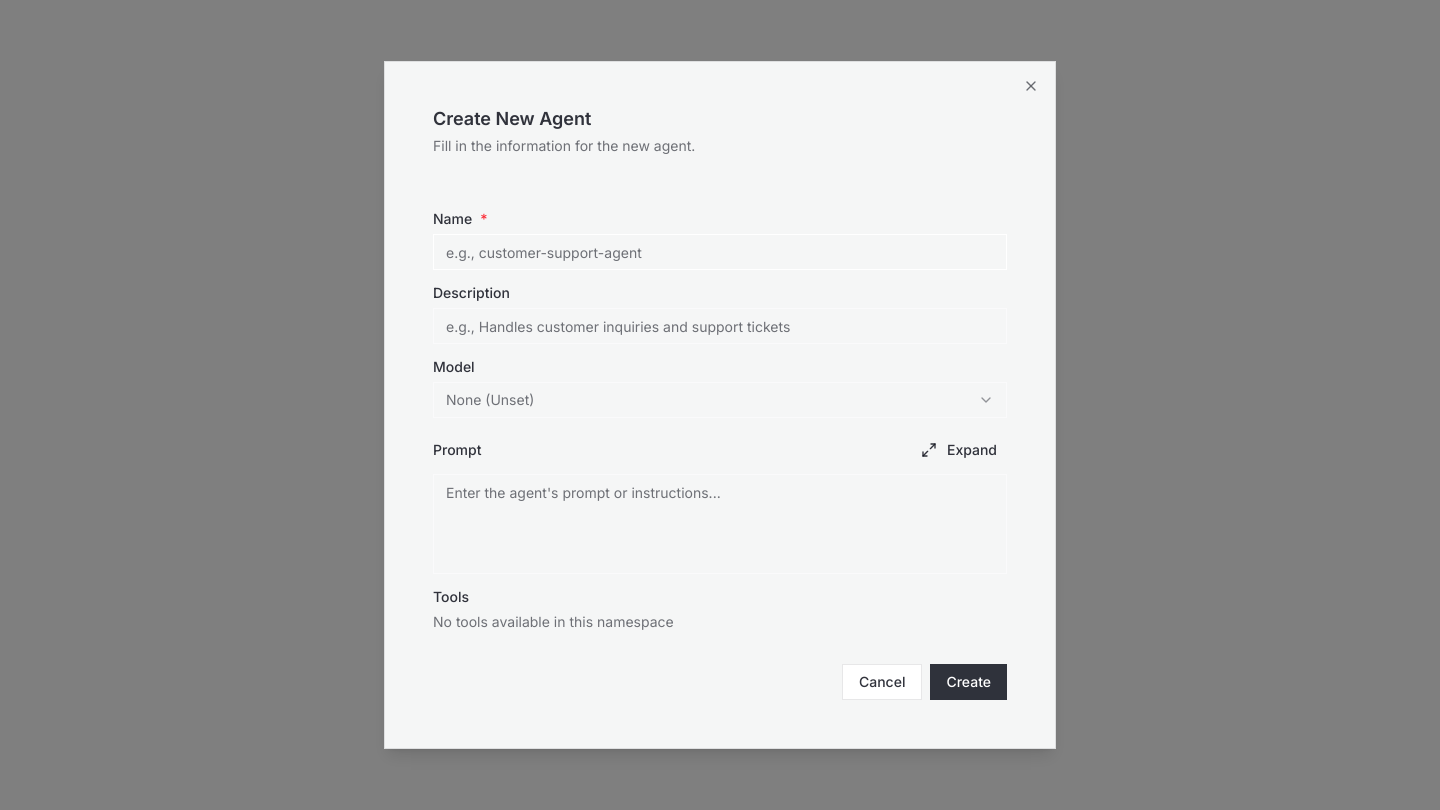
AgentEditor › validation › should show error for invalid kubernetes name
This screenshot has width=1440, height=810.
Type "invalidName" into the field with placeholder "e.g., customer-support-agent" at (720, 252), box x1=433 y1=234 x2=1007 y2=270
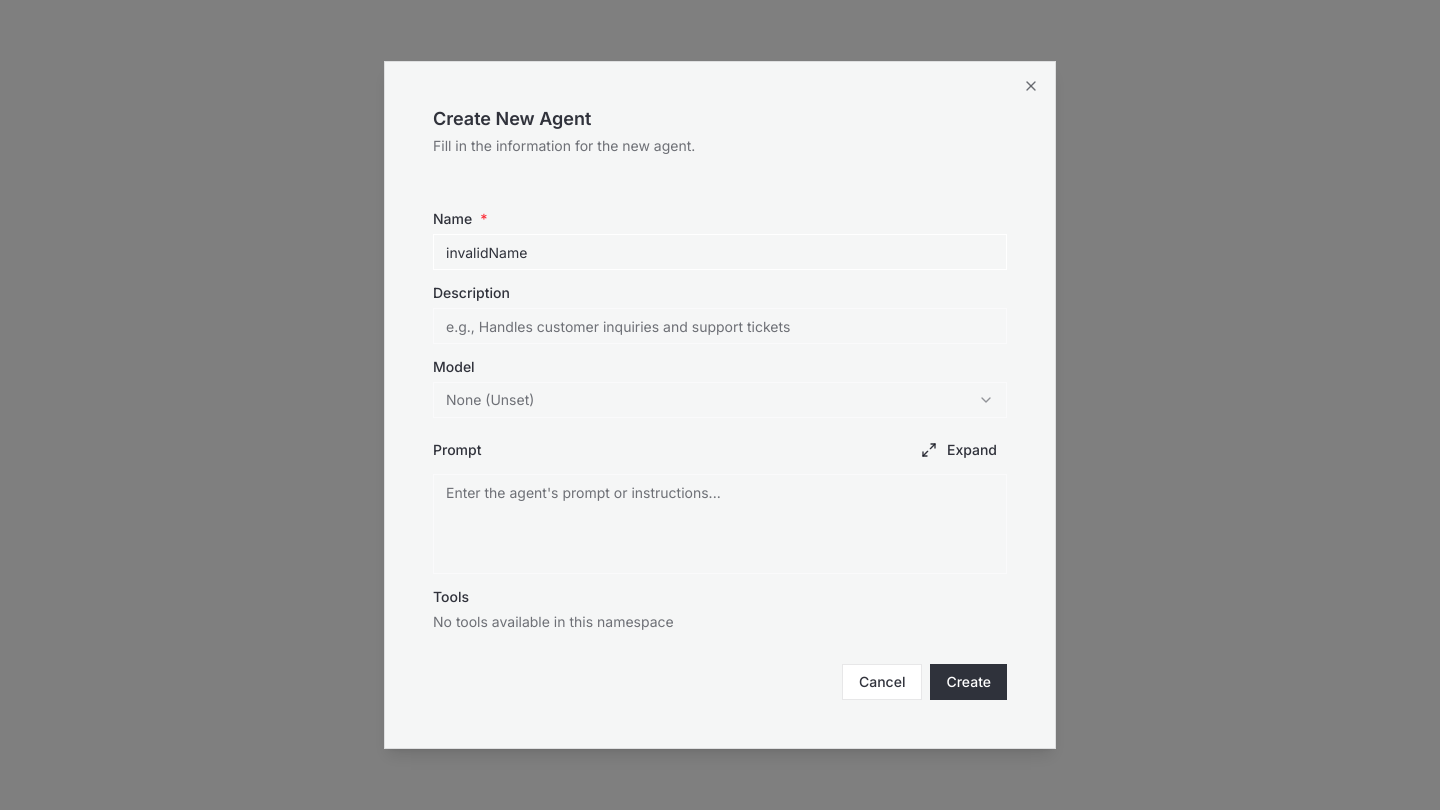
Click the button "Create" at (969, 682), box x1=930 y1=664 x2=1007 y2=700
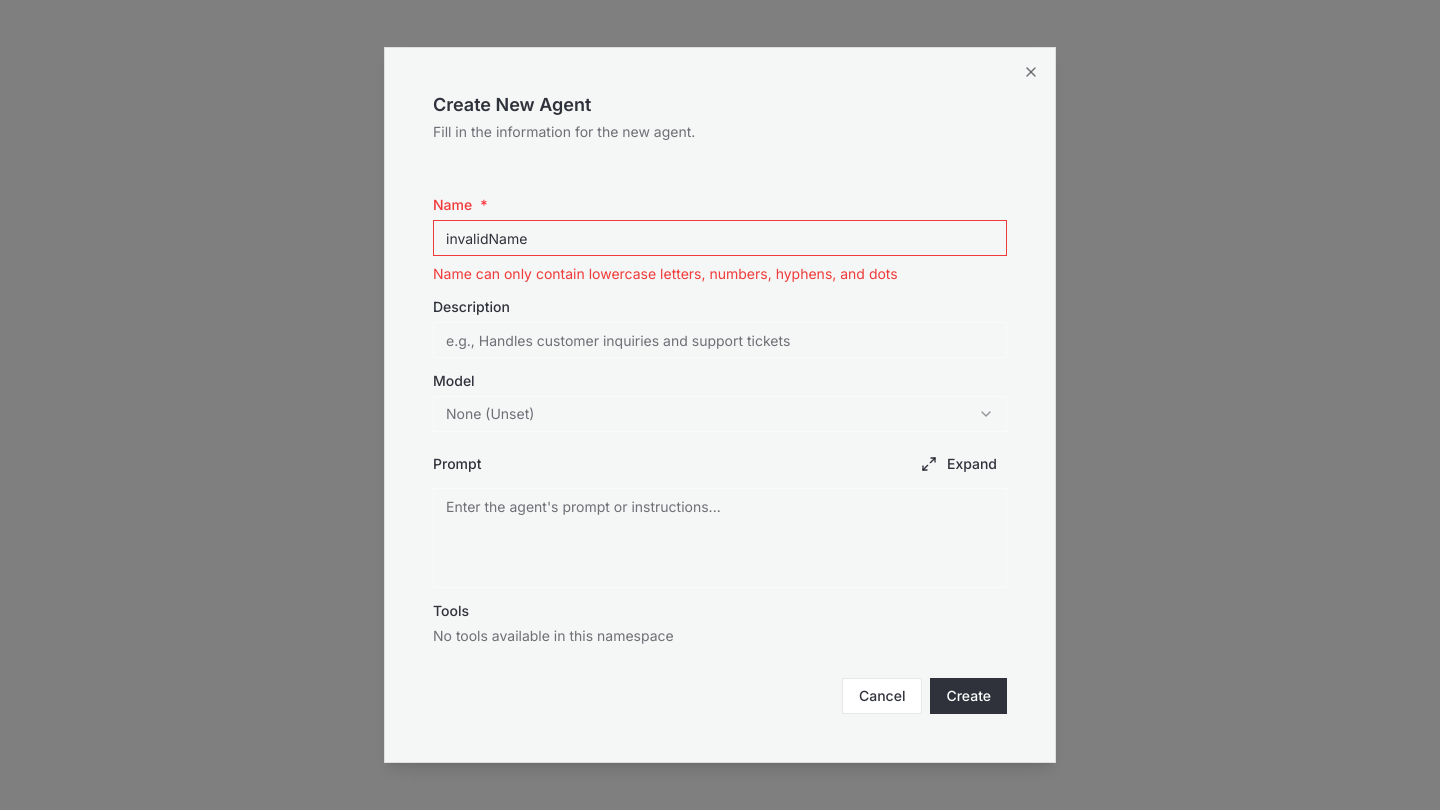
Expected: the text "Name can only contain lowercase letters, numbers, hyphens, and dots" is shown, x1=433 y1=265 x2=898 y2=282
